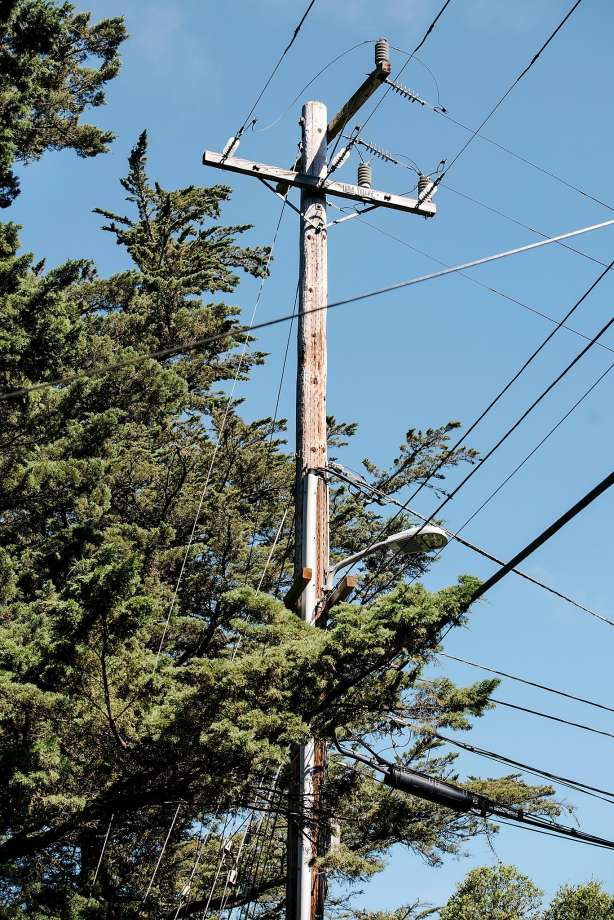utility_pole: (185, 26, 458, 261)
